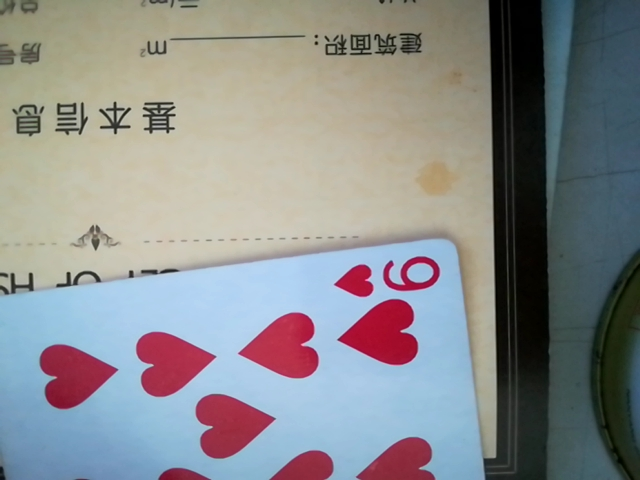hx 9: (4, 235, 491, 477)
